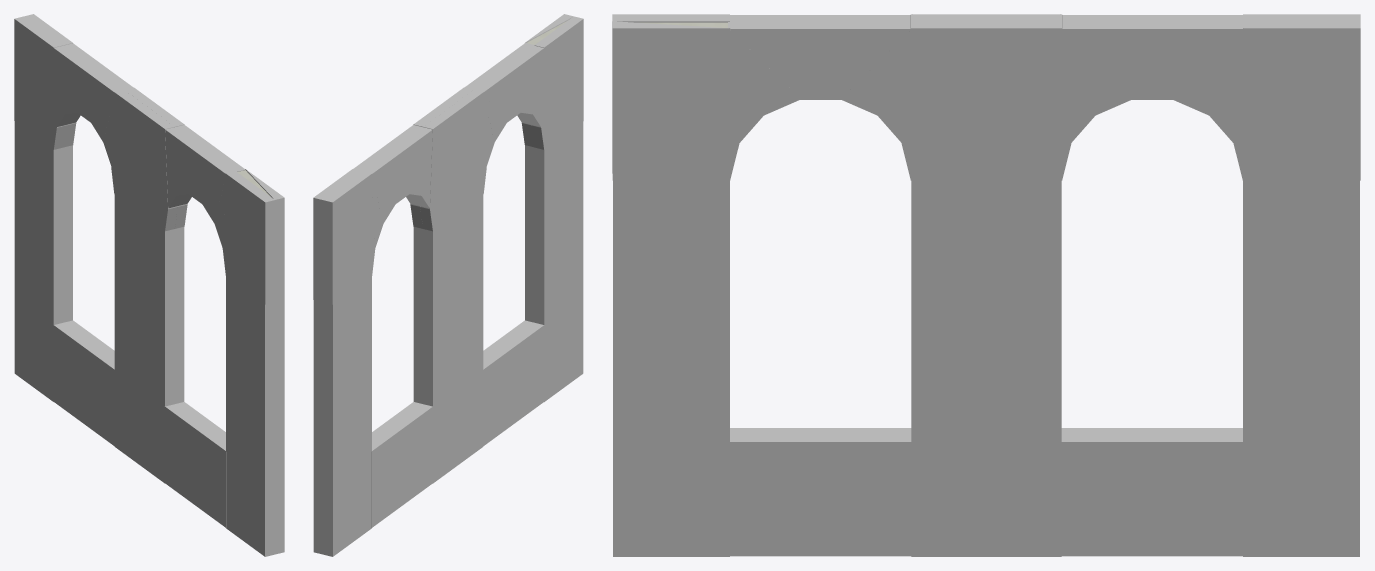
File: SM_M01WallWindowTypeG_2.fbx
The picture shows the model from 3 angles, left to right: view 1: azimuth 30°, elevation 25°; view 2: azimuth 150°, elevation 25°; view 3: azimuth 270°, elevation 25°; orthographic projection. The views are drawn at different scales.
Parts seen in each view (by area): view 1: SM_M01WallWindowTypeG_2_ConvexHulls; view 2: SM_M01WallWindowTypeG_2_ConvexHulls; view 3: SM_M01WallWindowTypeG_2_ConvexHulls.
Part boxes in pixels (bbox=[...]): SM_M01WallWindowTypeG_2_ConvexHulls: bbox=[14, 14, 284, 556]; SM_M01WallWindowTypeG_2_ConvexHulls: bbox=[313, 14, 583, 556]; SM_M01WallWindowTypeG_2_ConvexHulls: bbox=[612, 14, 1360, 556].
Bounding box in the file's own units: 20.32 × 451 × 352.
Materials: 3 (2 with a texture image).
